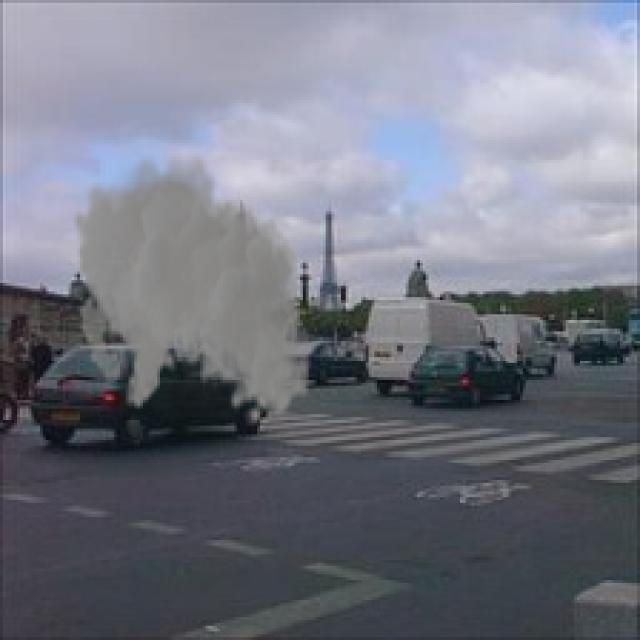smoke: (71, 143, 312, 426)
